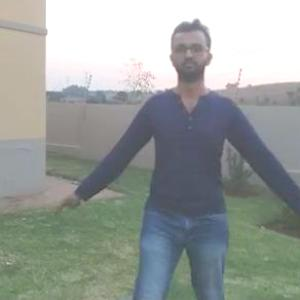land: (40, 15, 299, 290)
